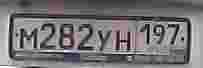license-plateSW: (9, 14, 190, 56)
